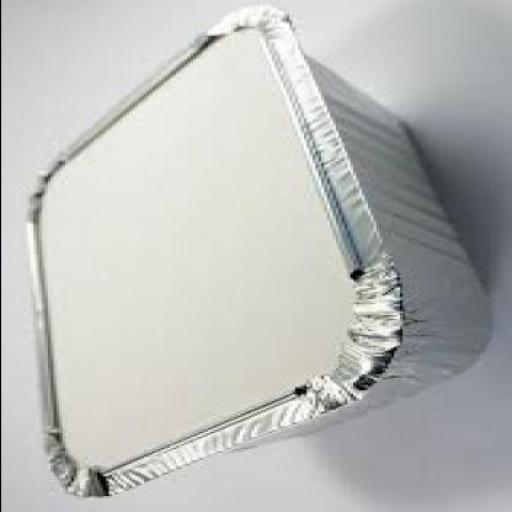cardboard: (35, 32, 343, 473)
metal: (20, 5, 483, 498)
